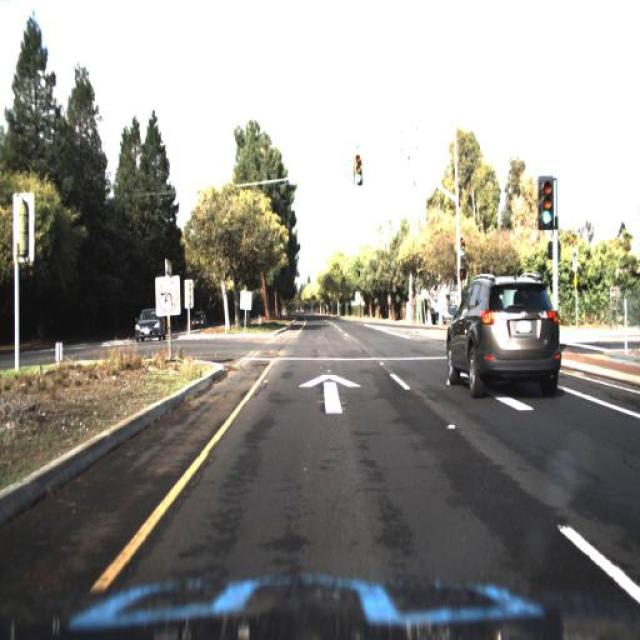car: (445, 273, 563, 401), (128, 304, 170, 341), (190, 306, 212, 334), (190, 309, 210, 333)
trafficLight-GreenLeft: (352, 148, 366, 186), (352, 151, 363, 189), (458, 234, 466, 260)
